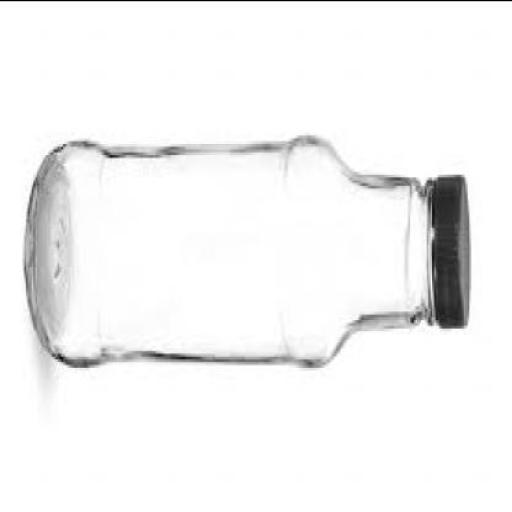glass: (28, 143, 436, 369)
metal: (433, 179, 473, 333)
